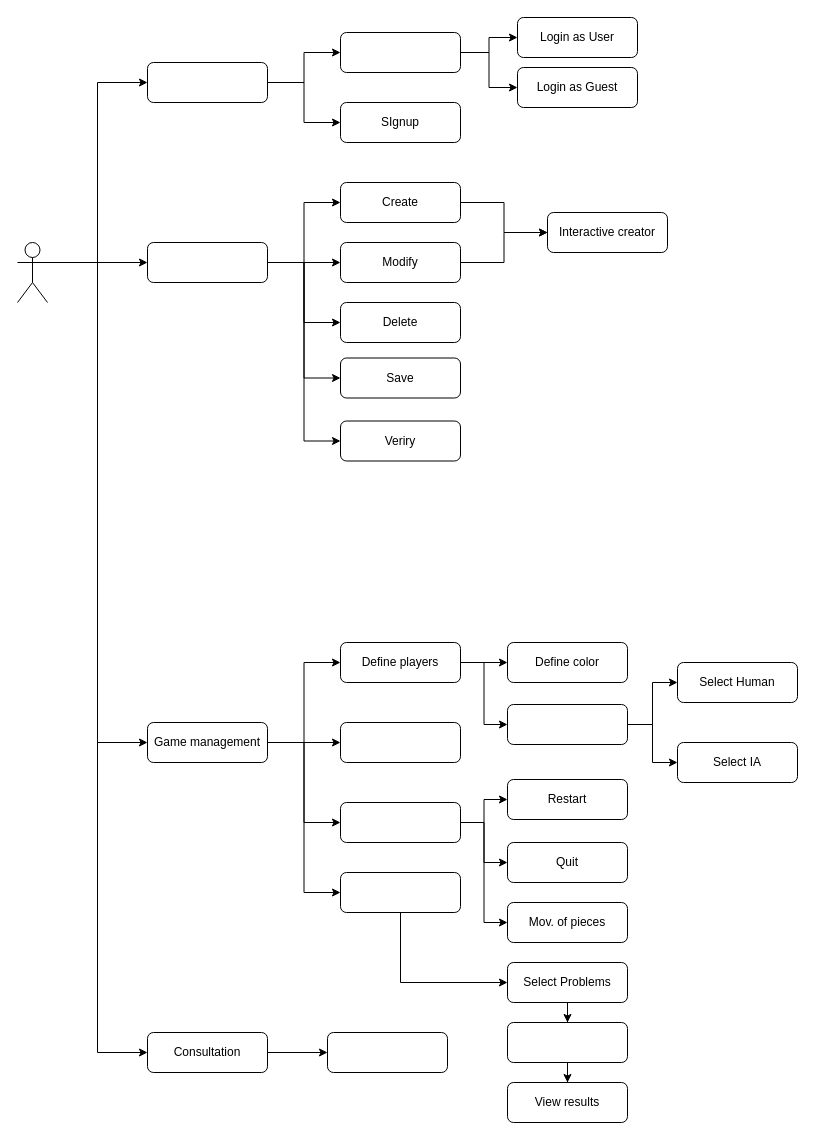
The diagram is 815 pixels wide and 1140 high, and some of its shapes have lost their labels. Each missing label, with the centre of its shape:
"Actor" belongs at (32,272).
"AI Competiton" belongs at (400,892).
"Define player" belongs at (567,724).
"Load problem" belongs at (400,742).
"Login" belongs at (400,52).
"Play games" belongs at (567,1042).
"Play problem" belongs at (400,822).
"Problem management" belongs at (207,262).
"Problem Statistics" belongs at (387,1052).
"Profile management" belongs at (207,82).
